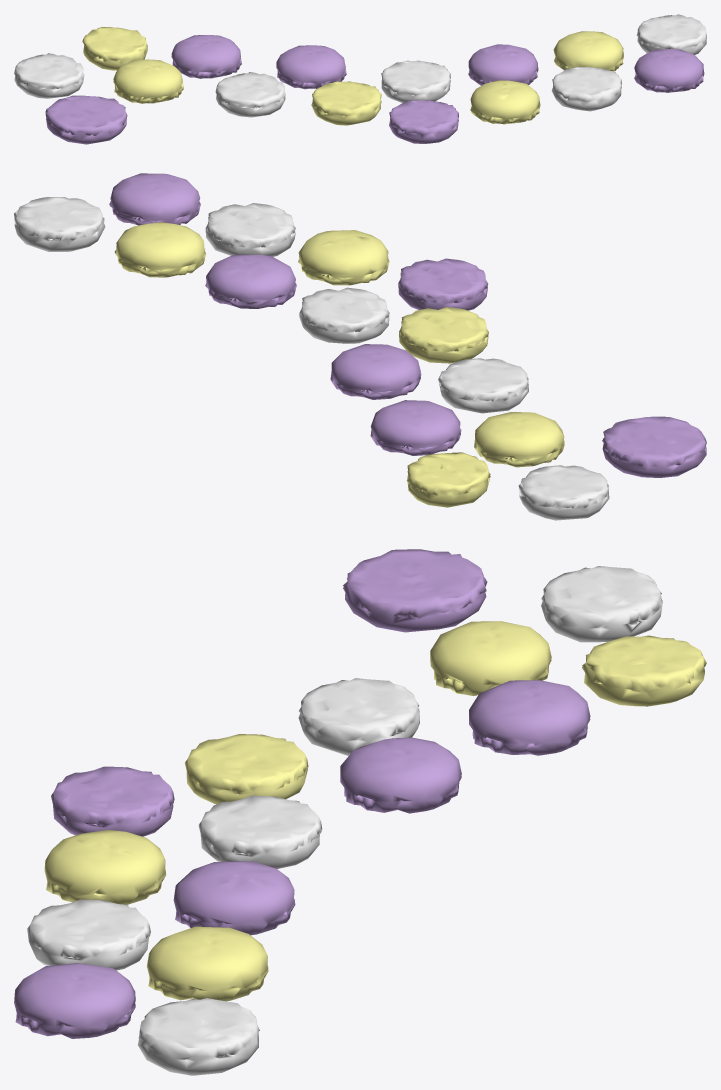
File: biscotto.017_LODs1.fbx
3 views of the same model, one above another, from view 1: azimuth 30°, elevation 25°; view 2: azimuth 150°, elevation 25°; view 3: azimuth 270°, elevation 25° (orthographic). The views are drawn at different scales.
Visible parts, largest first — view 1: biscotto_017_LOD0; view 2: biscotto_017_LOD0; view 3: biscotto_017_LOD0.
Part boxes in pixels (x1,y1,x2,y2): biscotto_017_LOD0: (14, 14, 706, 144); biscotto_017_LOD0: (14, 173, 706, 520); biscotto_017_LOD0: (14, 549, 706, 1075).
Size of what is drawn, in the model's own units: 164 by 7.64 by 95.86.
